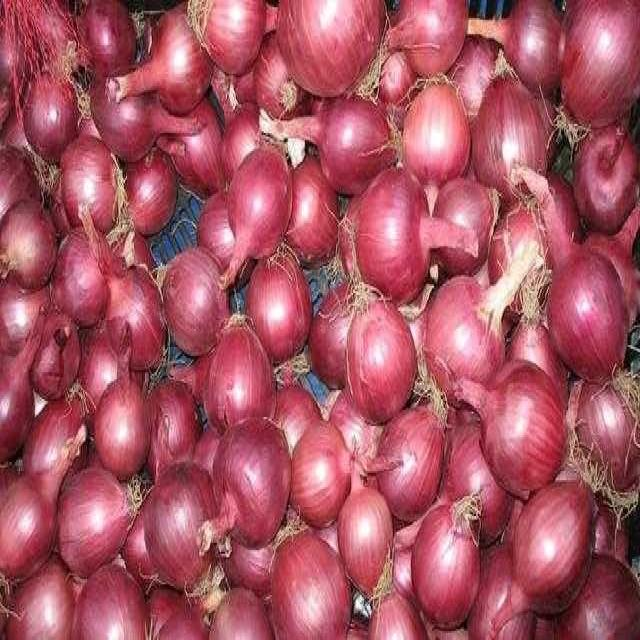onion: (542, 238, 629, 378), (513, 472, 597, 616), (144, 460, 230, 590), (482, 364, 566, 494), (419, 277, 505, 403), (277, 2, 387, 99), (352, 167, 431, 300), (561, 0, 640, 133), (471, 72, 555, 194), (214, 417, 291, 547), (413, 494, 484, 631), (369, 403, 447, 525), (273, 523, 354, 640), (222, 142, 289, 277), (491, 188, 554, 324), (57, 465, 132, 579), (349, 304, 417, 429), (445, 410, 511, 537), (318, 97, 397, 198), (574, 122, 639, 241), (247, 250, 312, 365), (205, 325, 275, 430), (52, 131, 117, 243), (152, 94, 226, 190), (404, 88, 471, 194), (475, 532, 540, 640), (162, 250, 228, 356), (334, 485, 395, 599), (294, 413, 354, 527), (149, 12, 213, 118), (577, 374, 635, 489), (564, 553, 640, 640), (418, 176, 493, 264), (495, 0, 565, 93), (109, 264, 166, 376), (69, 562, 149, 640), (235, 29, 301, 122), (25, 394, 86, 494), (284, 154, 341, 260), (390, 0, 469, 76), (434, 32, 500, 122), (3, 474, 59, 580), (94, 374, 148, 480), (31, 298, 83, 404), (21, 74, 80, 165), (146, 374, 203, 467), (1, 200, 58, 291), (124, 147, 179, 241), (214, 106, 266, 198), (18, 561, 78, 640), (327, 388, 384, 471), (82, 2, 141, 82), (94, 85, 158, 158), (262, 376, 318, 458), (209, 0, 267, 79), (0, 354, 41, 464), (534, 173, 582, 266), (76, 316, 121, 414), (60, 236, 108, 327), (0, 277, 49, 361), (314, 288, 353, 392), (361, 46, 416, 118), (505, 322, 565, 386), (158, 588, 221, 640), (199, 188, 237, 270), (220, 586, 276, 640), (370, 597, 429, 640)
